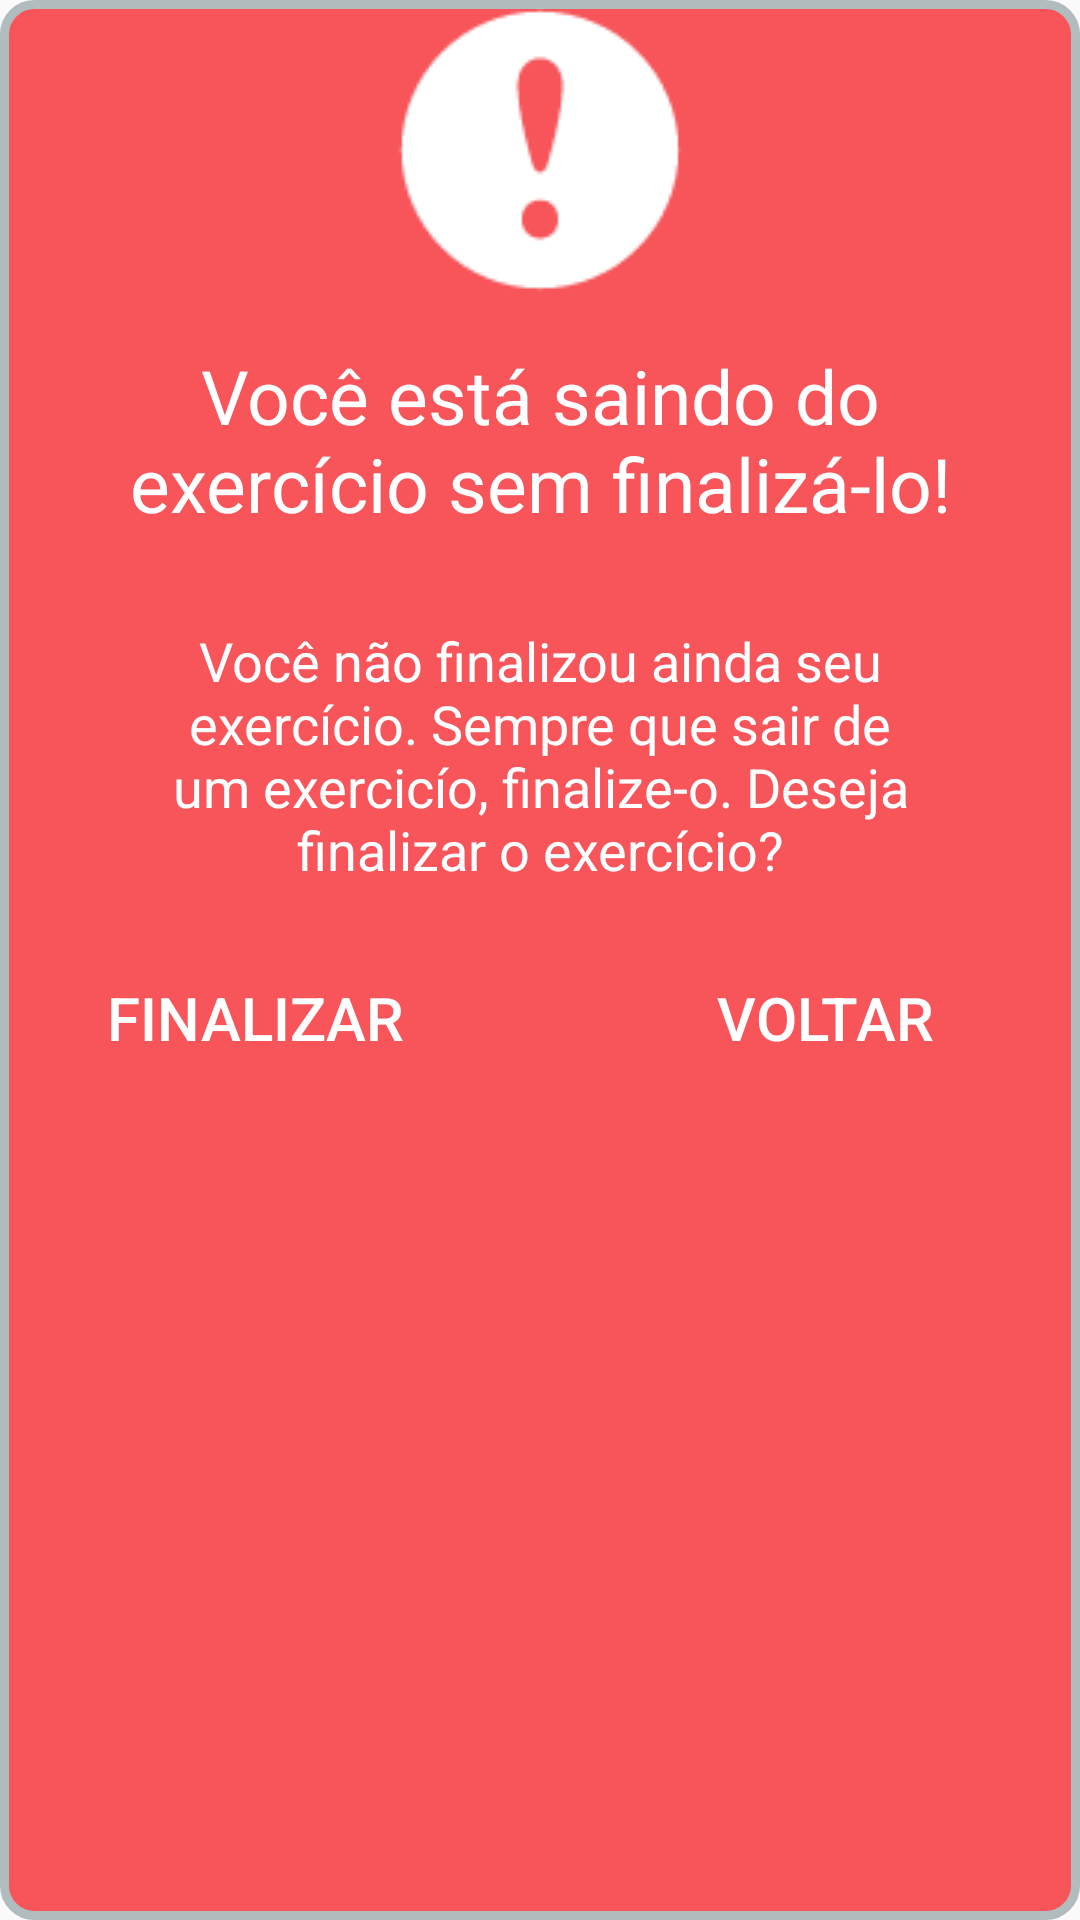

Icons on this 1080 × 1920 Android screen, each with the point to tap as point (x, y):
alerta: point (539, 149)
